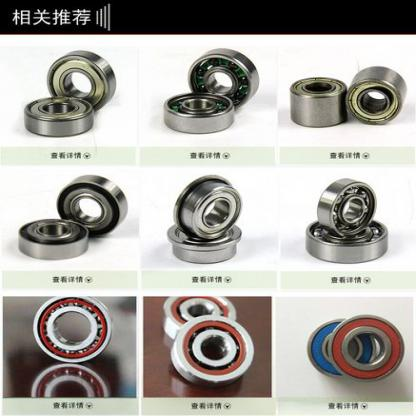FOD: (29, 295, 116, 367), (171, 317, 255, 390), (326, 313, 408, 383), (171, 172, 246, 240), (53, 174, 130, 238), (301, 212, 392, 265), (186, 46, 261, 110), (45, 48, 117, 113), (304, 318, 380, 378), (162, 217, 243, 266), (158, 294, 240, 342), (347, 63, 410, 125), (313, 176, 381, 233), (286, 72, 350, 128), (19, 90, 94, 137), (15, 214, 90, 261), (161, 92, 237, 135)
